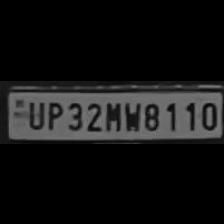0: (196, 98, 218, 130)
1: (161, 98, 179, 132), (179, 98, 197, 132)
2: (82, 98, 102, 132)
3: (64, 98, 84, 130)
8: (140, 98, 162, 132)
M: (103, 98, 121, 132)
P: (43, 98, 63, 130)
U: (23, 97, 43, 128)
W: (122, 98, 140, 132)
